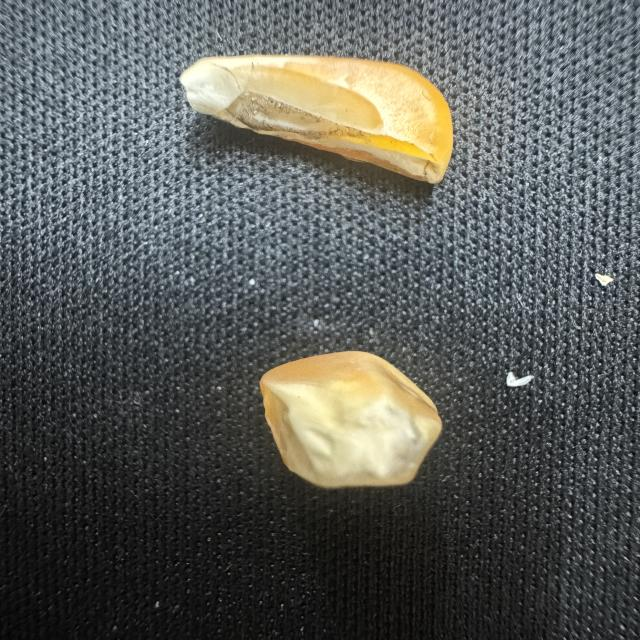Bad-Seed: (175, 49, 469, 200), (254, 346, 451, 496)
